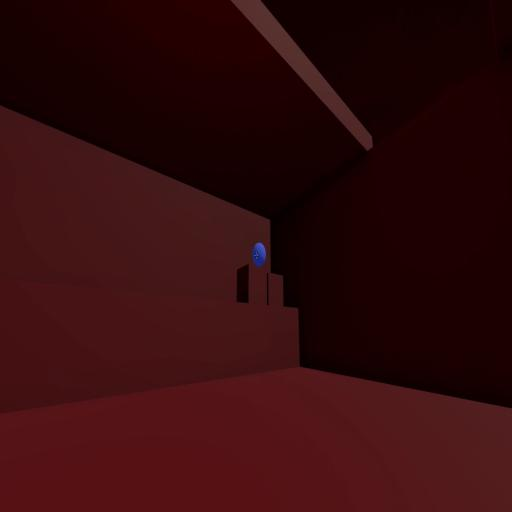Crosshair: (253, 251, 260, 261)
Target: (253, 242, 266, 267)
